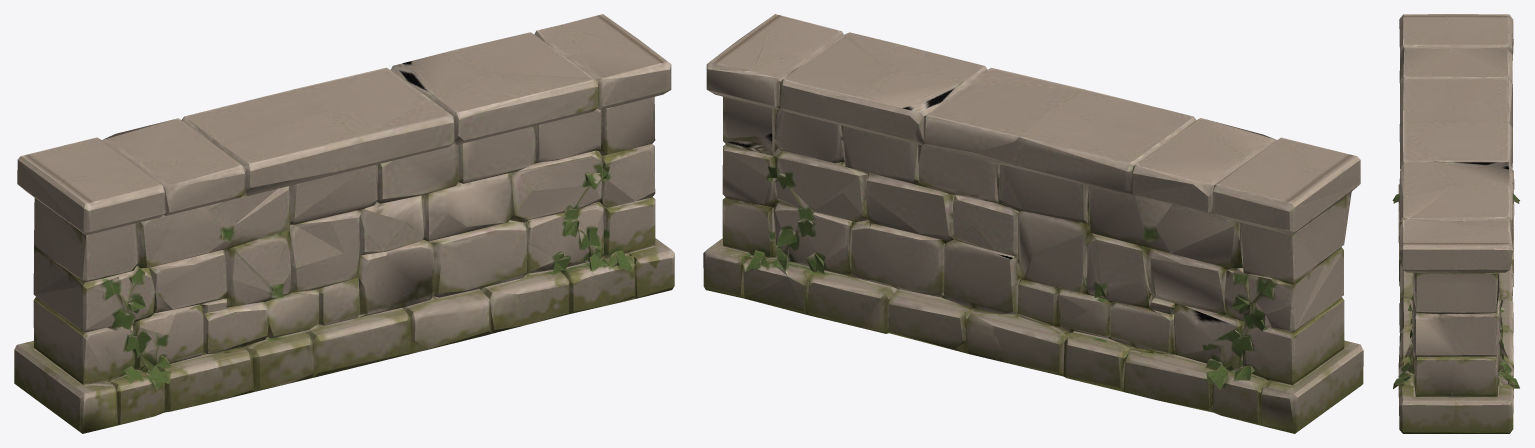
The model's file is wall-ivy.glb.
The picture shows the model from 3 angles, left to right: view 1: azimuth 30°, elevation 25°; view 2: azimuth 150°, elevation 25°; view 3: azimuth 270°, elevation 25°; orthographic projection. The views are drawn at different scales.
Parts seen in each view (by area): view 1: output_unwrapped; view 2: output_unwrapped; view 3: output_unwrapped.
Boxes of the visible parts, left/top/right/bottom form: output_unwrapped: left=14, top=14, right=674, bottom=433; output_unwrapped: left=703, top=14, right=1363, bottom=433; output_unwrapped: left=1392, top=14, right=1519, bottom=433.
Bounding box in the file's own units: 1.9 × 0.7029 × 0.4347.
1 material, 1 textured.
